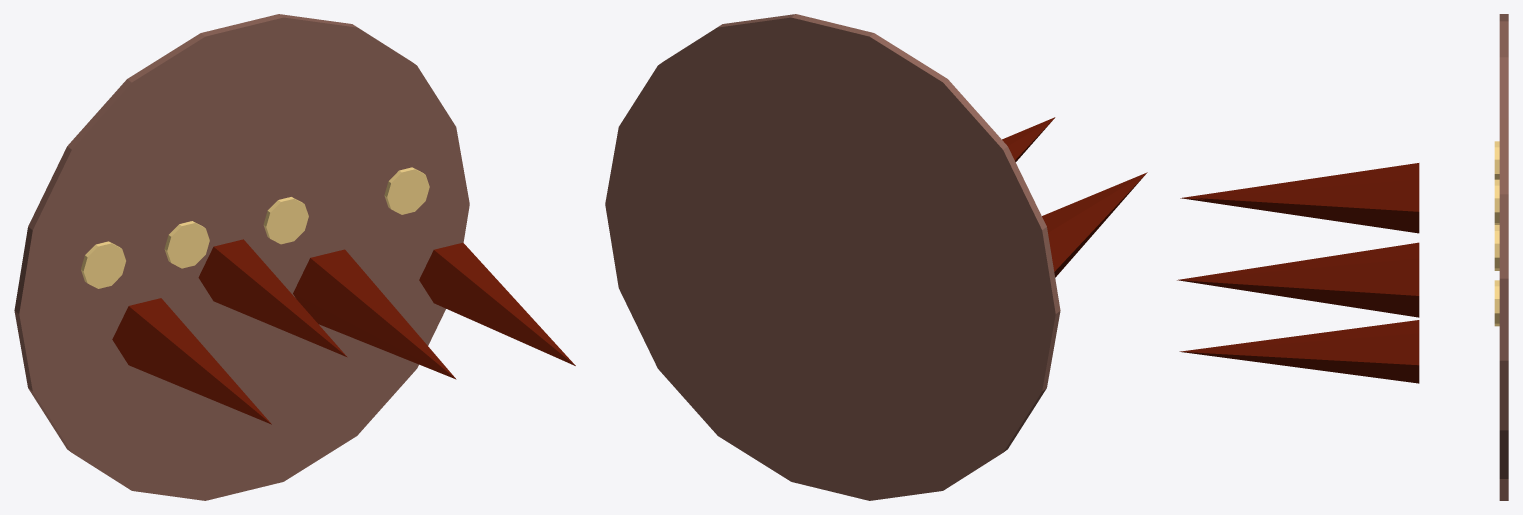
The model's file is 03_ambient_object_cluster.glb.
The picture shows the model from 3 angles, left to right: view 1: azimuth 30°, elevation 25°; view 2: azimuth 150°, elevation 25°; view 3: azimuth 270°, elevation 25°; orthographic projection. The views are drawn at different scales.
Parts seen in each view (by area): view 1: scatter_base, basalt_shard_2, basalt_shard_0, basalt_shard_3, basalt_shard_1, lava_glow_3, lava_glow_2, lava_glow_0, lava_glow_1; view 2: scatter_base, basalt_shard_0, basalt_shard_1; view 3: basalt_shard_2, basalt_shard_3, basalt_shard_1, scatter_base, basalt_shard_0.
Boxes of the visible parts, bbox=[...] form: scatter_base: bbox=[14, 14, 469, 500]; basalt_shard_2: bbox=[293, 249, 456, 379]; basalt_shard_0: bbox=[112, 298, 271, 424]; basalt_shard_3: bbox=[419, 242, 575, 365]; basalt_shard_1: bbox=[198, 239, 347, 357]; lava_glow_3: bbox=[384, 167, 429, 214]; lava_glow_2: bbox=[263, 197, 308, 244]; lava_glow_0: bbox=[81, 241, 125, 288]; lava_glow_1: bbox=[164, 221, 209, 268]; scatter_base: bbox=[605, 14, 1060, 500]; basalt_shard_0: bbox=[1042, 172, 1147, 277]; basalt_shard_1: bbox=[1002, 117, 1055, 161]; basalt_shard_2: bbox=[1177, 242, 1419, 317]; basalt_shard_3: bbox=[1179, 320, 1419, 383]; basalt_shard_1: bbox=[1196, 165, 1419, 230]; scatter_base: bbox=[1499, 14, 1508, 500]; basalt_shard_0: bbox=[1180, 163, 1419, 233].
Bounding box in the file's own units: 1.9 × 1.87 × 1.29.
